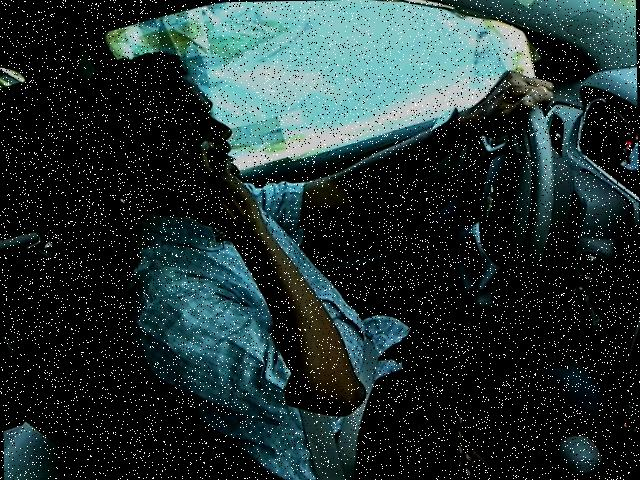c2 - Talking on the phone: (66, 42, 576, 416)
